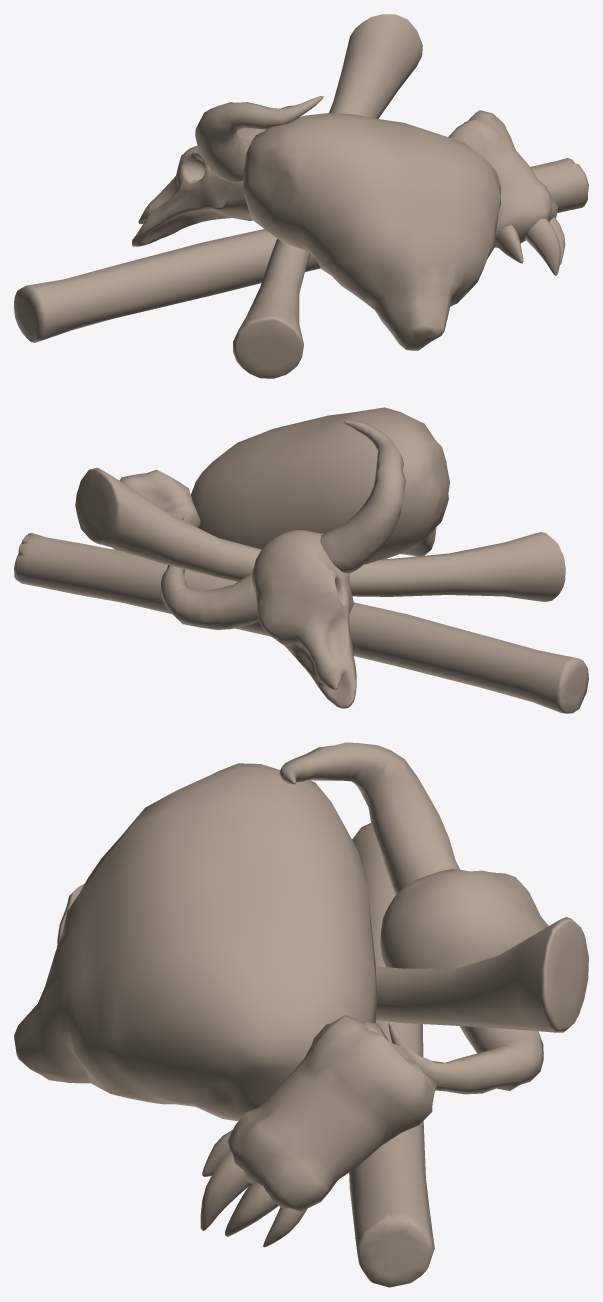
File: separatedPieces04.fbx
3 renders of one model, top to bottom at view 1: azimuth 30°, elevation 25°; view 2: azimuth 150°, elevation 25°; view 3: azimuth 270°, elevation 25°, orthographic. The views are drawn at different scales.
Visible parts, largest first — view 1: separatedPieces04_LOD0; view 2: separatedPieces04_LOD0; view 3: separatedPieces04_LOD0.
Boxes of the visible parts, <box> form: separatedPieces04_LOD0: <box>14,14,588,378</box>; separatedPieces04_LOD0: <box>14,407,588,713</box>; separatedPieces04_LOD0: <box>14,742,588,1287</box>.
Bounding box in the file's own units: 203 × 73.29 × 124.
